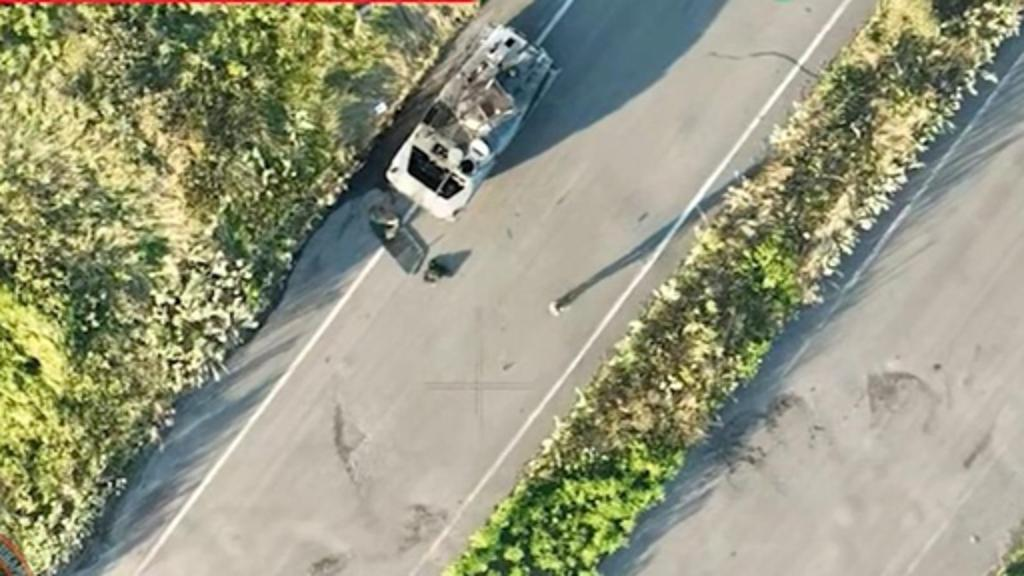APC-IFV: (380, 20, 566, 222)
